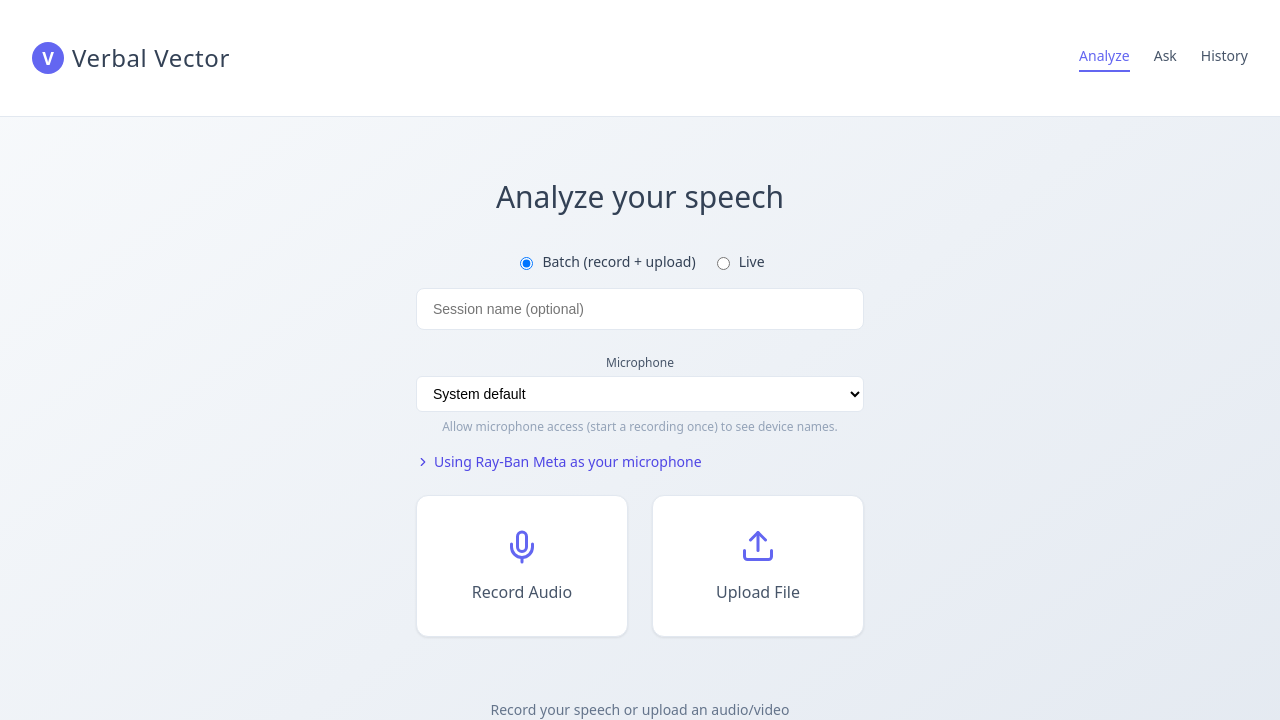
Scenario: VerbalVector live mode › shows a mode toggle in the input stage with Batch selected by default and can switch to Live
Expected: the radio button labelled "Batch (record + upload)" is checked, top-left (520, 256), bottom-right (533, 270)
Click the radio button labelled "Live".
click(723, 263)  # box top-left (717, 256), bottom-right (730, 270)
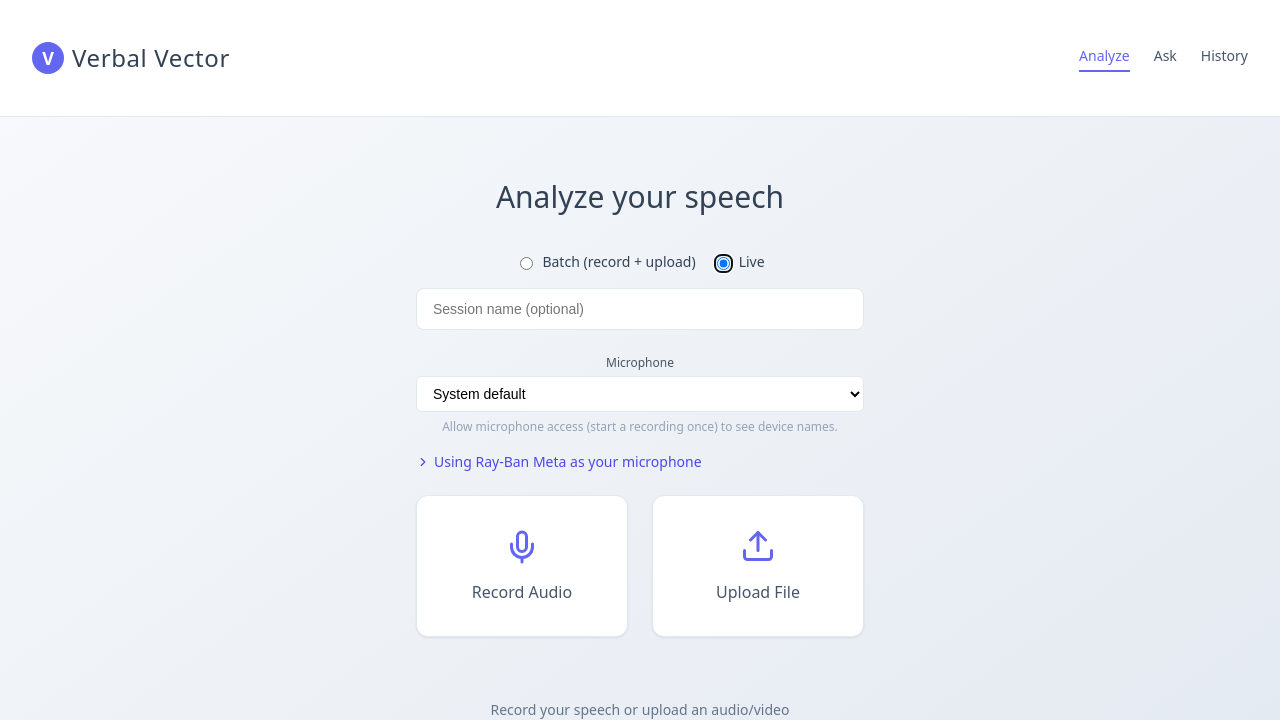
Now the radio button labelled "Live" is checked, box top-left (717, 256), bottom-right (730, 270)
Now the radio button labelled "Batch (record + upload)" is not checked, box top-left (520, 256), bottom-right (533, 270)
